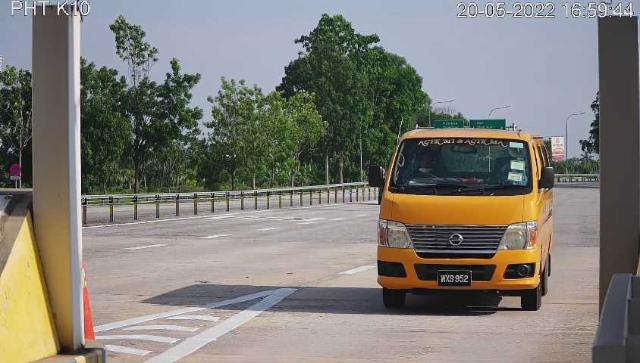License_Plate: (440, 271, 473, 289)
van: (379, 130, 554, 313)
